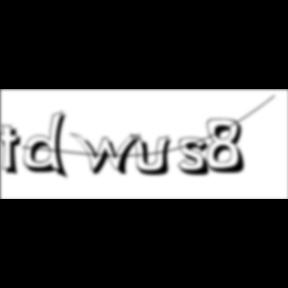8: (206, 117, 252, 176)
d: (24, 110, 74, 182)
s: (178, 137, 218, 179)
t: (0, 124, 28, 179)
u: (131, 132, 179, 178)
w: (70, 132, 148, 178)
